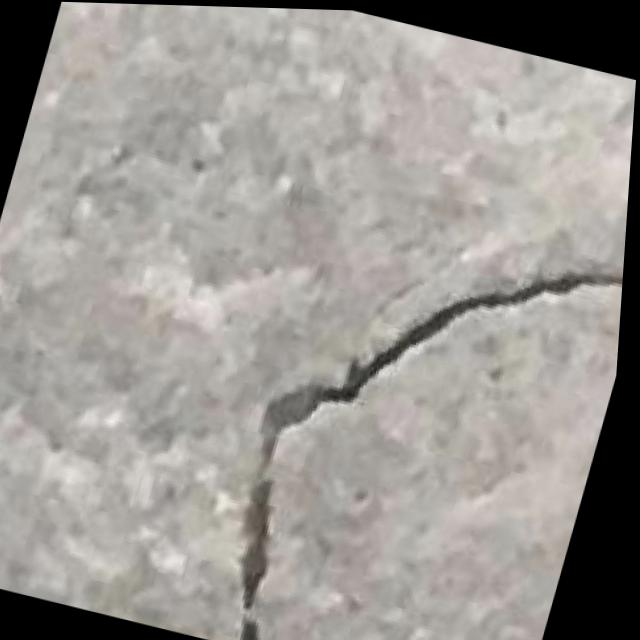Crack: (189, 160, 632, 640)
